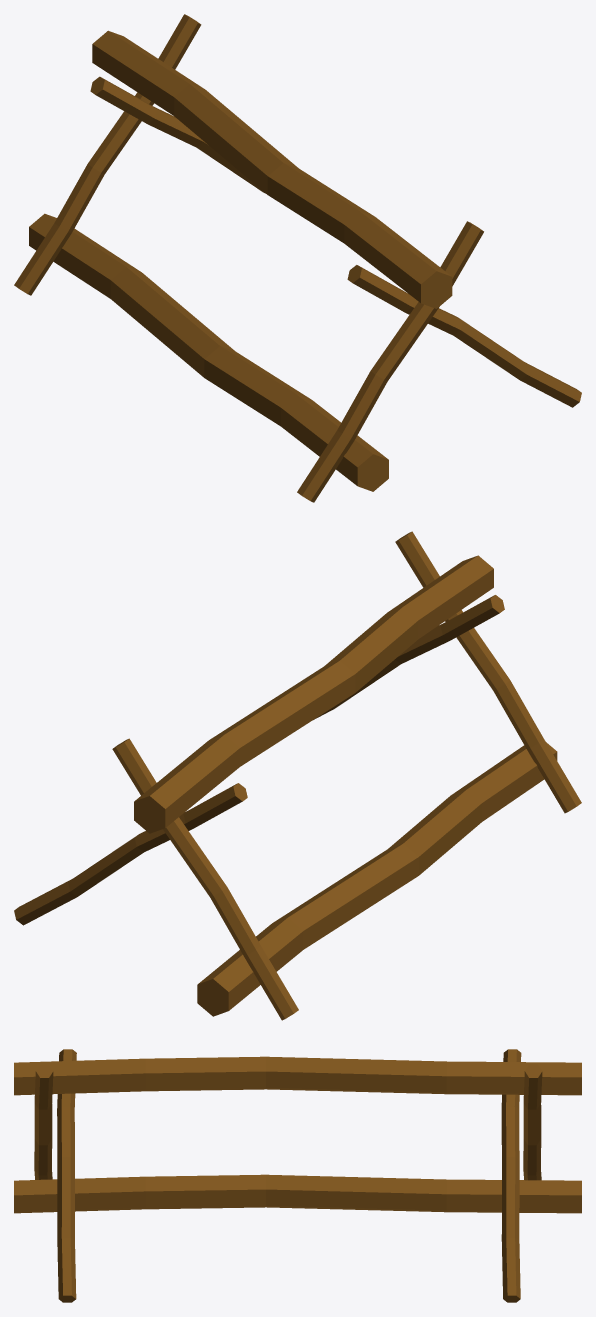
Rendered from weapon-rack.dae.
The picture shows the model from 3 angles, top to bottom: view 1: azimuth 30°, elevation 25°; view 2: azimuth 150°, elevation 25°; view 3: azimuth 270°, elevation 25°; orthographic projection. The views are drawn at different scales.
Parts seen in each view (by area): view 1: Cylinder; view 2: Cylinder; view 3: Cylinder.
Boxes of the visible parts, left/top/right/bottom form: Cylinder: left=14, top=14, right=581, bottom=502; Cylinder: left=14, top=531, right=581, bottom=1020; Cylinder: left=14, top=1049, right=581, bottom=1302.
Bounding box in the file's own units: 7.32 × 14.23 × 5.73.
